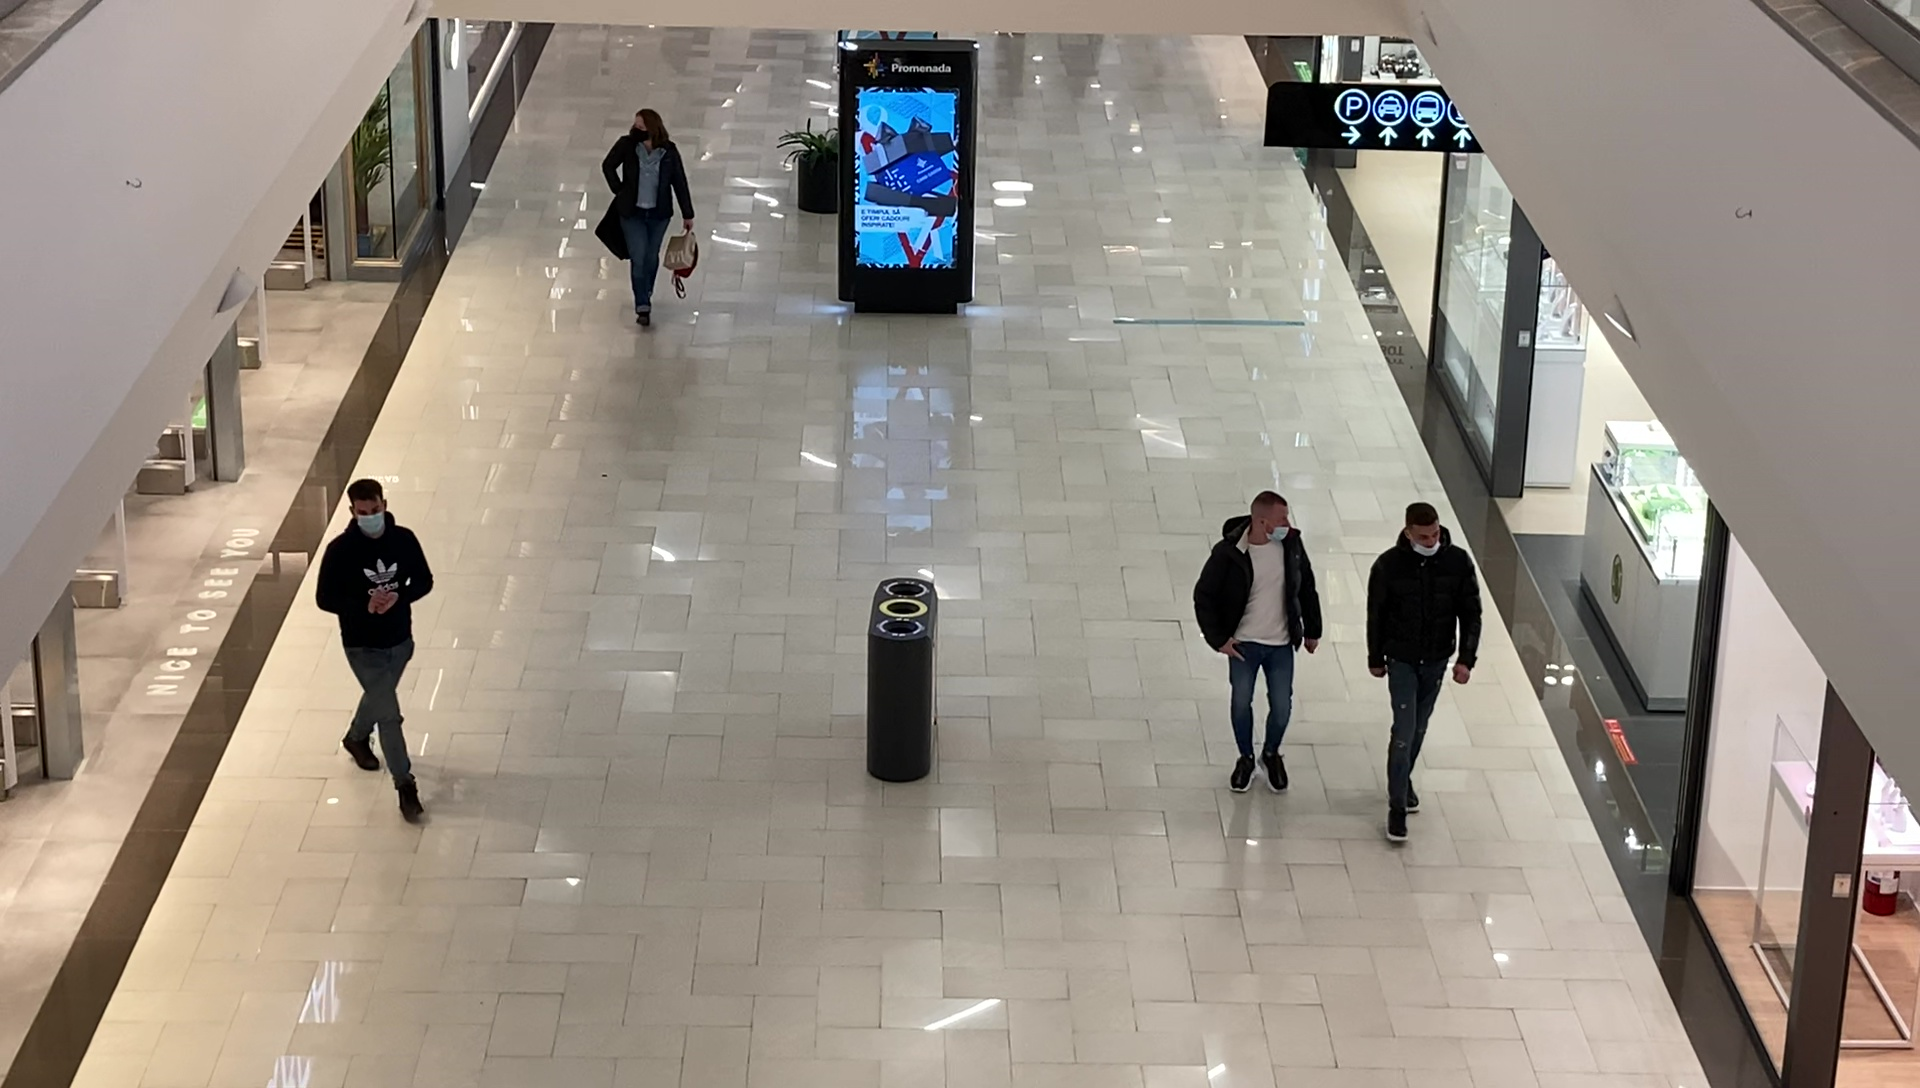person: (315, 480, 436, 822), (1366, 501, 1482, 846), (1192, 492, 1305, 798), (603, 109, 698, 326)
